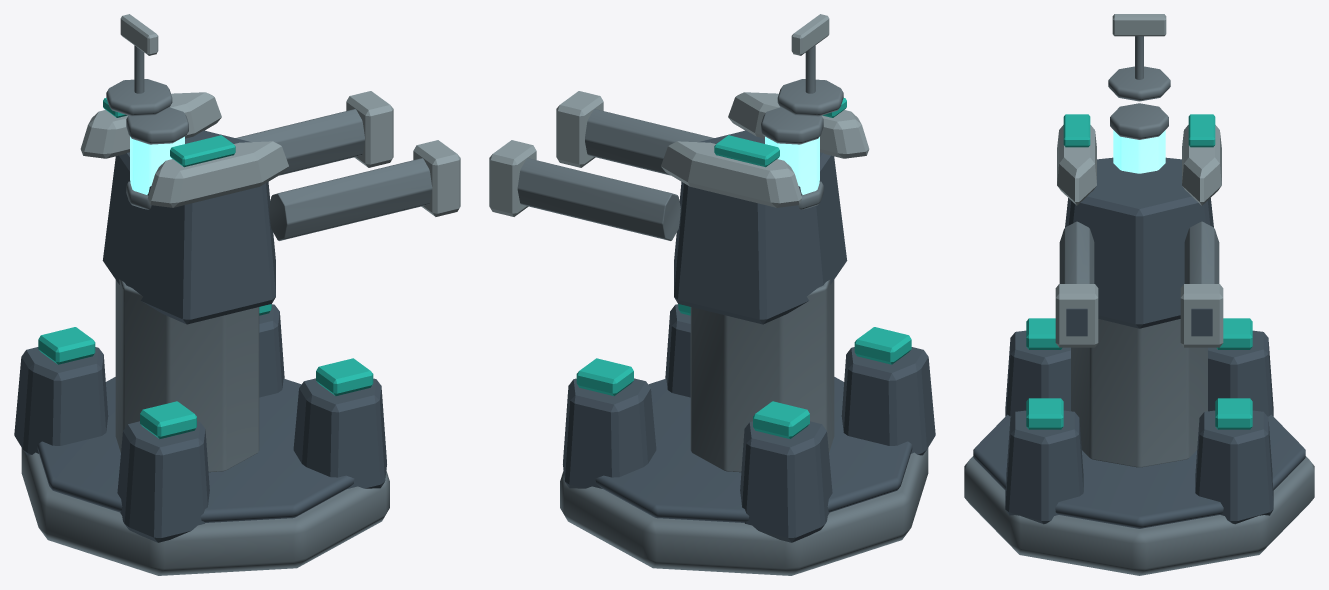
The model's file is SM_Ward.fbx.
3 views of the same model, side by side, from view 1: azimuth 30°, elevation 25°; view 2: azimuth 150°, elevation 25°; view 3: azimuth 270°, elevation 25° (orthographic). The views are drawn at different scales.
Visible parts, largest first — view 1: SM_Ward; view 2: SM_Ward; view 3: SM_Ward.
Part boxes in pixels (x1,y1,x2,y2): SM_Ward: (14,14,460,575); SM_Ward: (489,14,935,575); SM_Ward: (964,14,1314,575).
Bounding box in the file's own units: 96 × 83.17 × 120.
